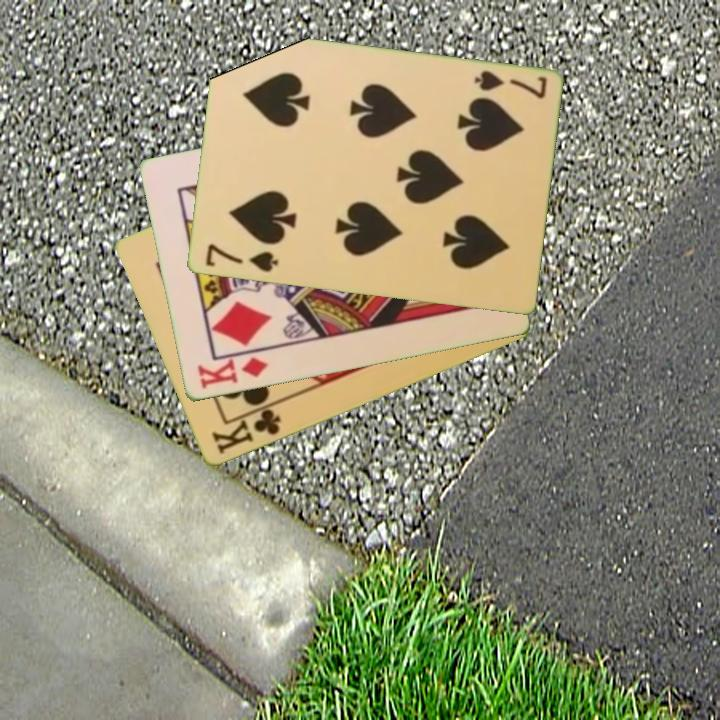7s: (201, 240, 281, 276), (470, 67, 550, 102)
Kc: (207, 400, 284, 458)
Kd: (193, 354, 271, 393)
